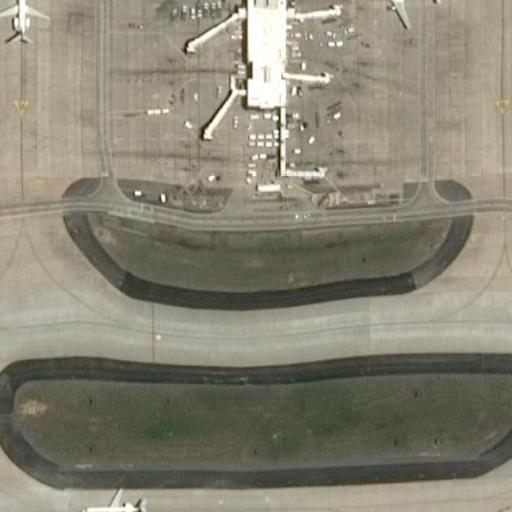Aircraft: (77, 473, 156, 512), (363, 0, 447, 30), (0, 0, 49, 49)
